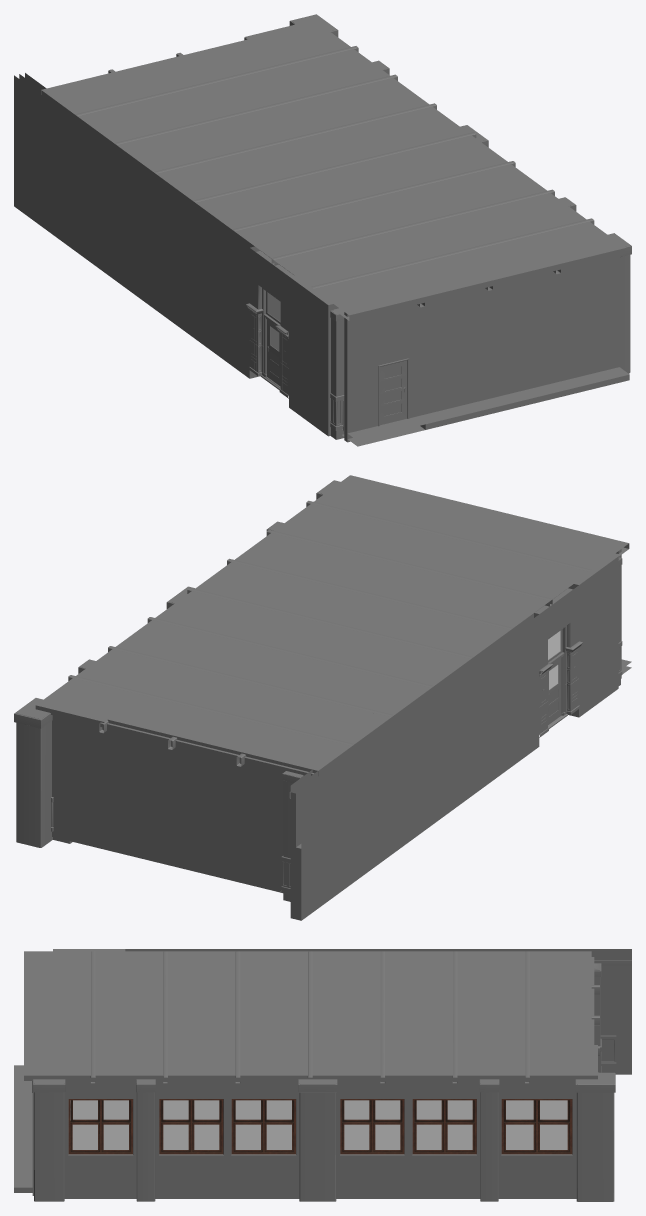
3 views of the same model, one above another, from view 1: azimuth 30°, elevation 25°; view 2: azimuth 150°, elevation 25°; view 3: azimuth 270°, elevation 25° (orthographic). The views are drawn at different scales.
Visible parts, largest first — view 1: SM_Classroom, Mesh_0116.rip.002, Mesh_0175.rip; view 2: SM_Classroom, Mesh_0175.rip; view 3: SM_Classroom.
Boxes of the visible parts, left/top/right/bottom form: SM_Classroom: left=14, top=14, right=631, bottom=446; Mesh_0116.rip.002: left=380, top=360, right=407, bottom=425; Mesh_0175.rip: left=267, top=319, right=280, bottom=386; SM_Classroom: left=14, top=475, right=631, bottom=920; Mesh_0175.rip: left=548, top=658, right=561, bottom=724; SM_Classroom: left=14, top=949, right=631, bottom=1201.
Bounding box in the file's own units: 2135 × 1093 × 463.
